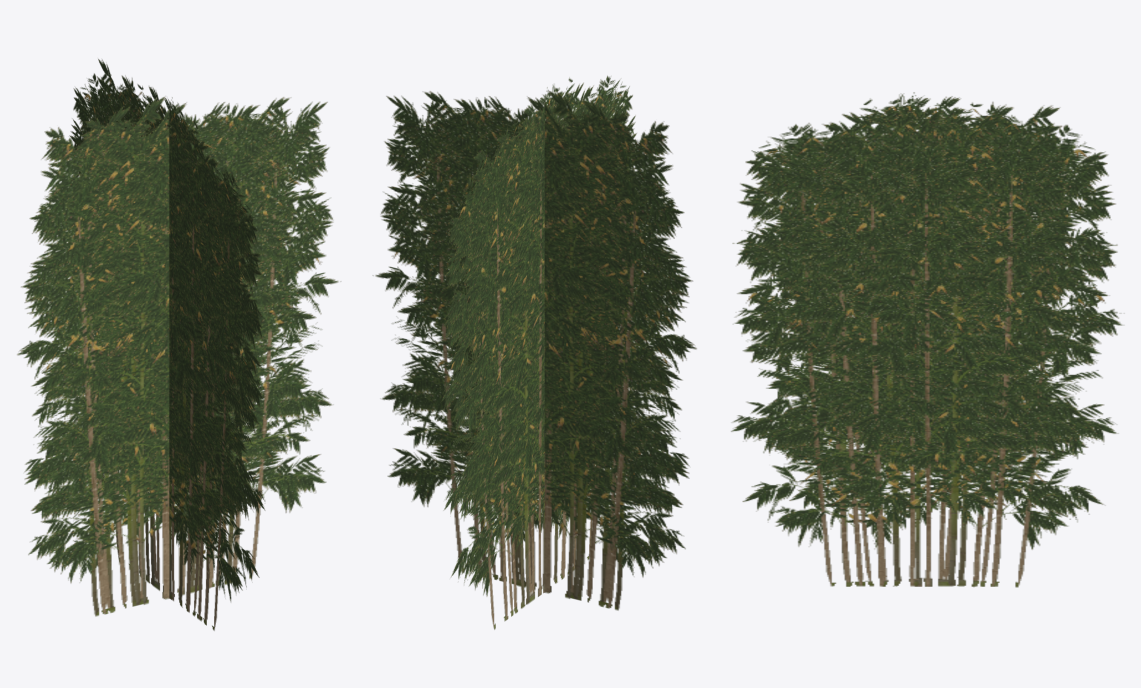
File: PhyllostachysAurea.glb
3 renders of one model, left to right at view 1: azimuth 30°, elevation 25°; view 2: azimuth 150°, elevation 25°; view 3: azimuth 270°, elevation 25°, orthographic.
Visible parts, largest first — view 1: mesh__mat_billboard_8; view 2: mesh__mat_billboard_8; view 3: mesh__mat_billboard_8.
Part boxes in pixels (x1,y1,x2,y2): mesh__mat_billboard_8: (17, 59, 340, 630); mesh__mat_billboard_8: (373, 75, 696, 629); mesh__mat_billboard_8: (731, 92, 1122, 587).
Size of the model in its own units: 2.93 by 4.36 by 3.13.
1 material, 1 textured.
